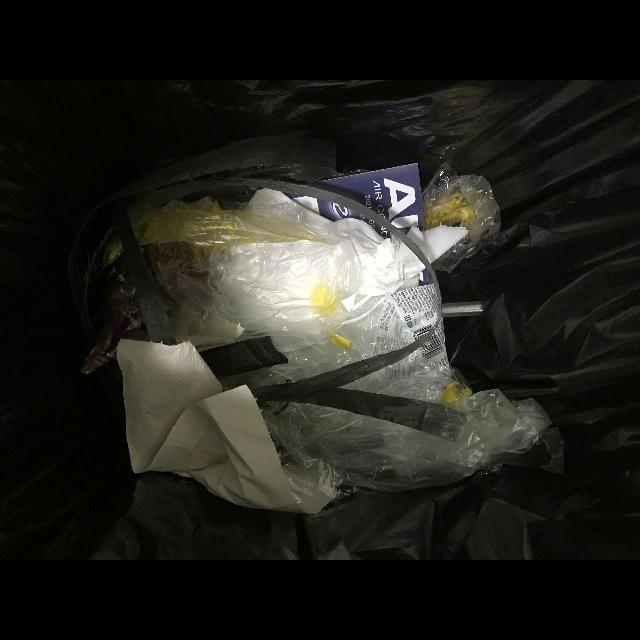paper: (116, 340, 334, 516), (325, 217, 469, 295)
plastic_bag: (126, 195, 362, 336)
